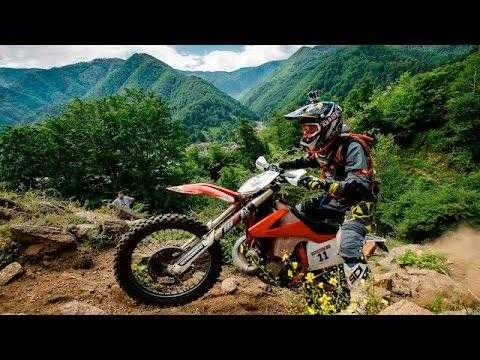motorcycle: (110, 161, 398, 305)
